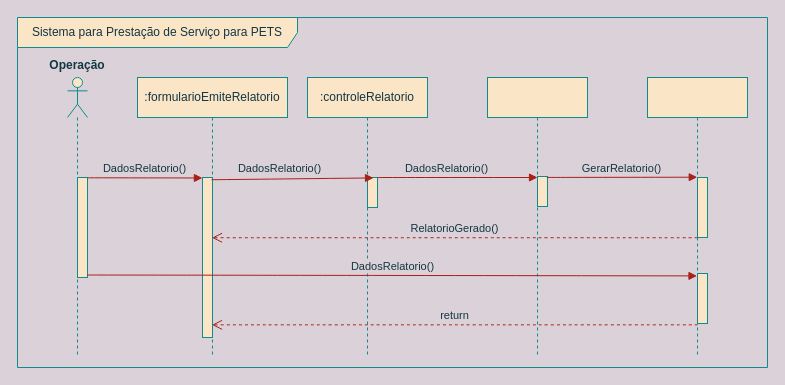
The diagram is 785 pixels wide and 385 high, and some of its shapes have lost their labels. The box of each missing label's shape, as (x1, y1, x2, y2) in pixels:
:DAO: (646, 76, 748, 358)
:Relatorio: (486, 76, 588, 358)
